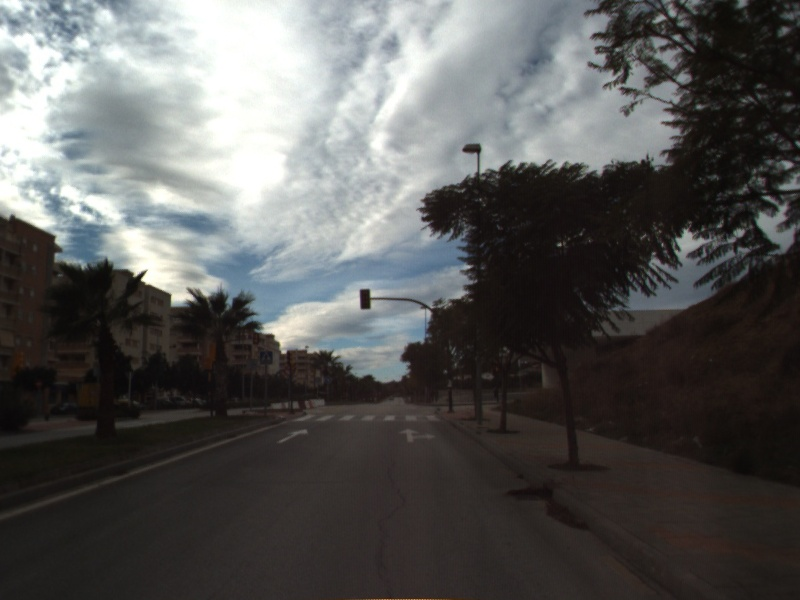STRAIGHT: (275, 427, 310, 445)
STRAIGHT_RIGHT: (397, 426, 438, 444)
